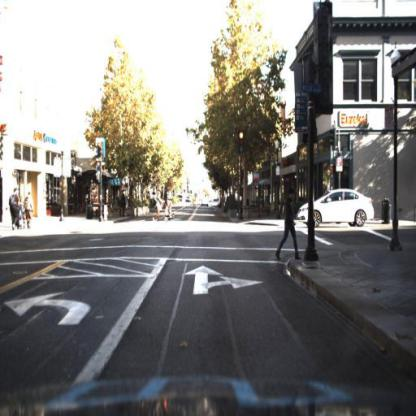car: (298, 188, 377, 232)
pedestrian: (272, 185, 302, 260), (150, 187, 174, 230), (9, 189, 22, 231), (26, 191, 38, 233)
trafficLight-Red: (237, 128, 247, 155), (94, 142, 103, 165)
